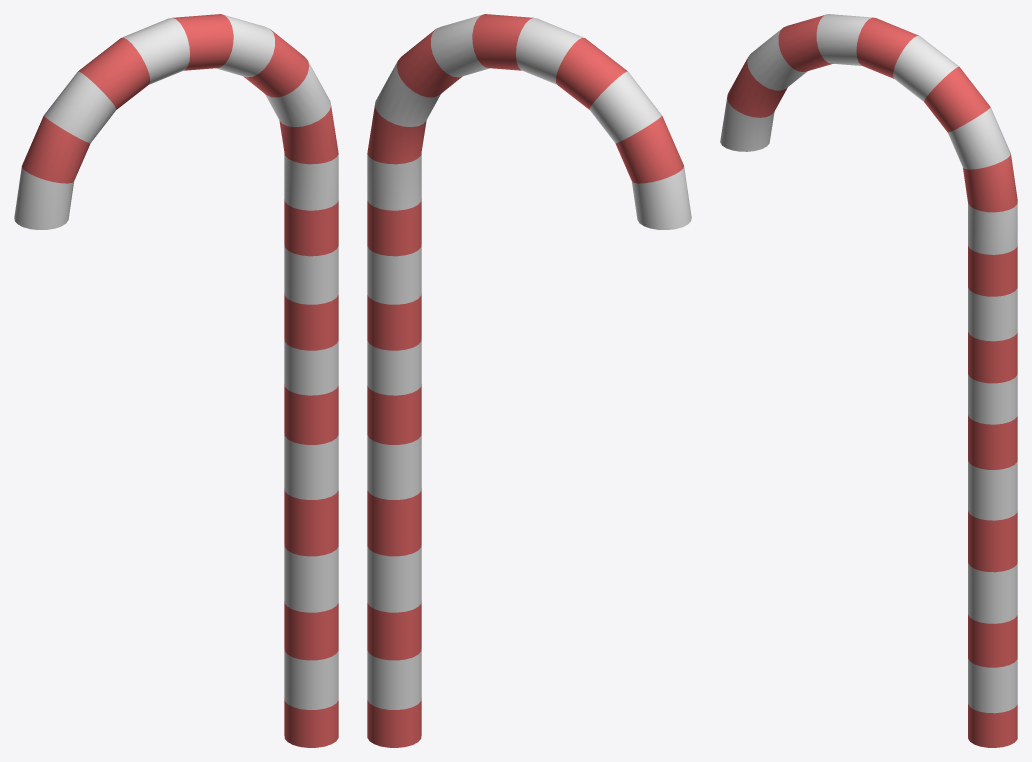
The model's file is canneNoel.fbx.
3 views of the same model, side by side, from view 1: azimuth 30°, elevation 25°; view 2: azimuth 150°, elevation 25°; view 3: azimuth 330°, elevation 25° (orthographic). The views are drawn at different scales.
Visible parts, largest first — view 1: pTorus1; view 2: pTorus1; view 3: pTorus1.
Boxes of the visible parts, box(x1,y1,x2,y2) form: pTorus1: box(14, 14, 338, 747); pTorus1: box(367, 14, 691, 747); pTorus1: box(720, 14, 1017, 747).
Size of the model in its own units: 9.4 by 21.22 by 1.4.
